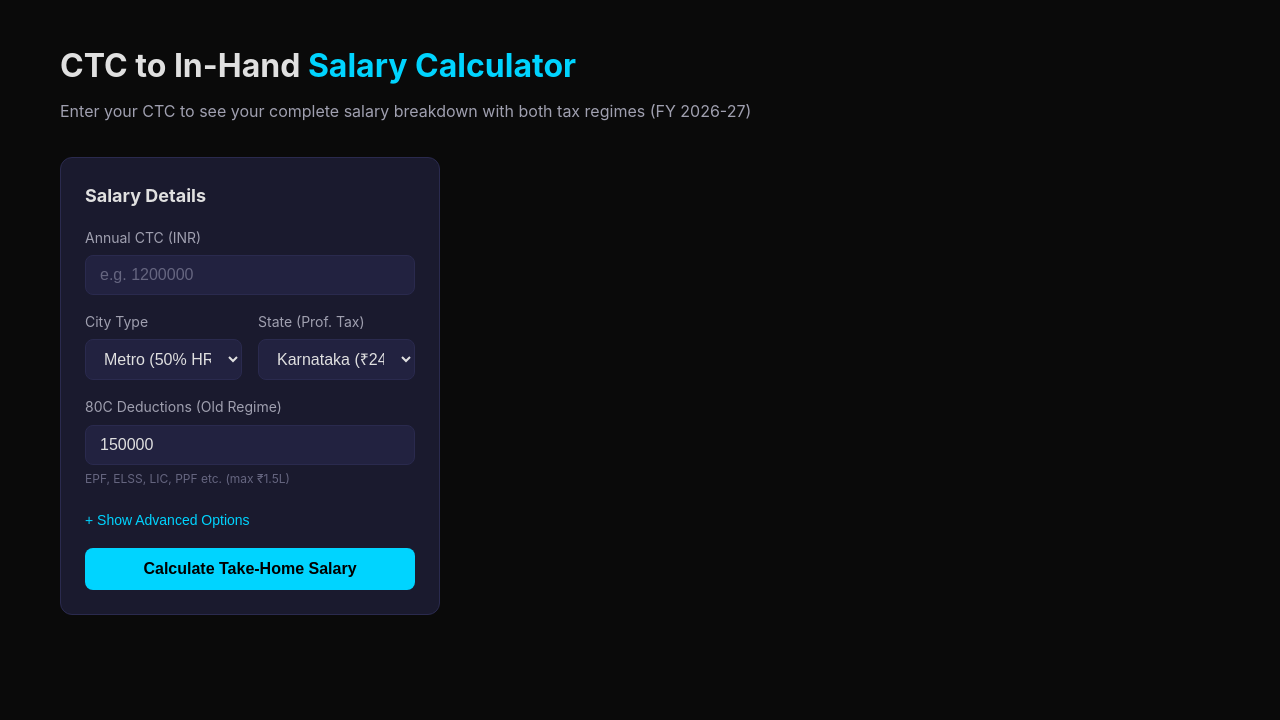
Test: CalculatorPage › shows correct basic salary for 12 LPA
In the number field labelled "Annual CTC (INR)": (250, 275) x1=85 y1=255 x2=415 y2=295, type "1200000"
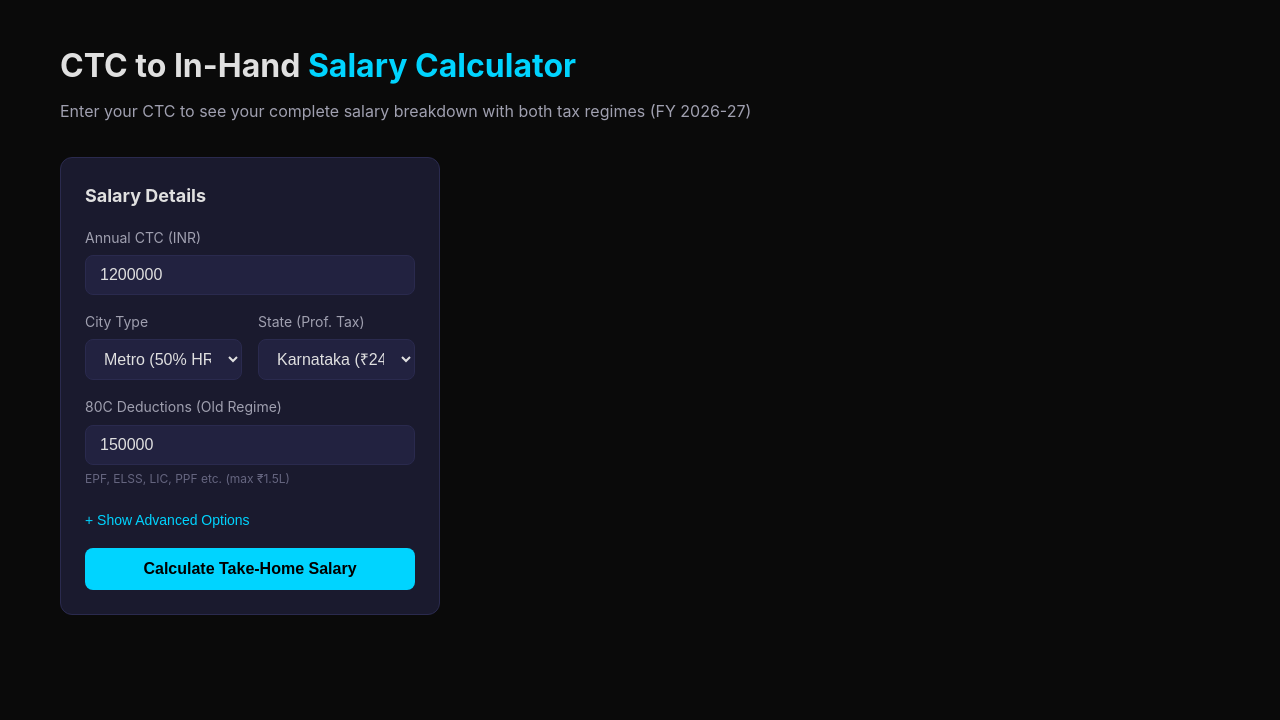
Click the button "Calculate Take-Home Salary": click(250, 569) x1=85 y1=548 x2=415 y2=590
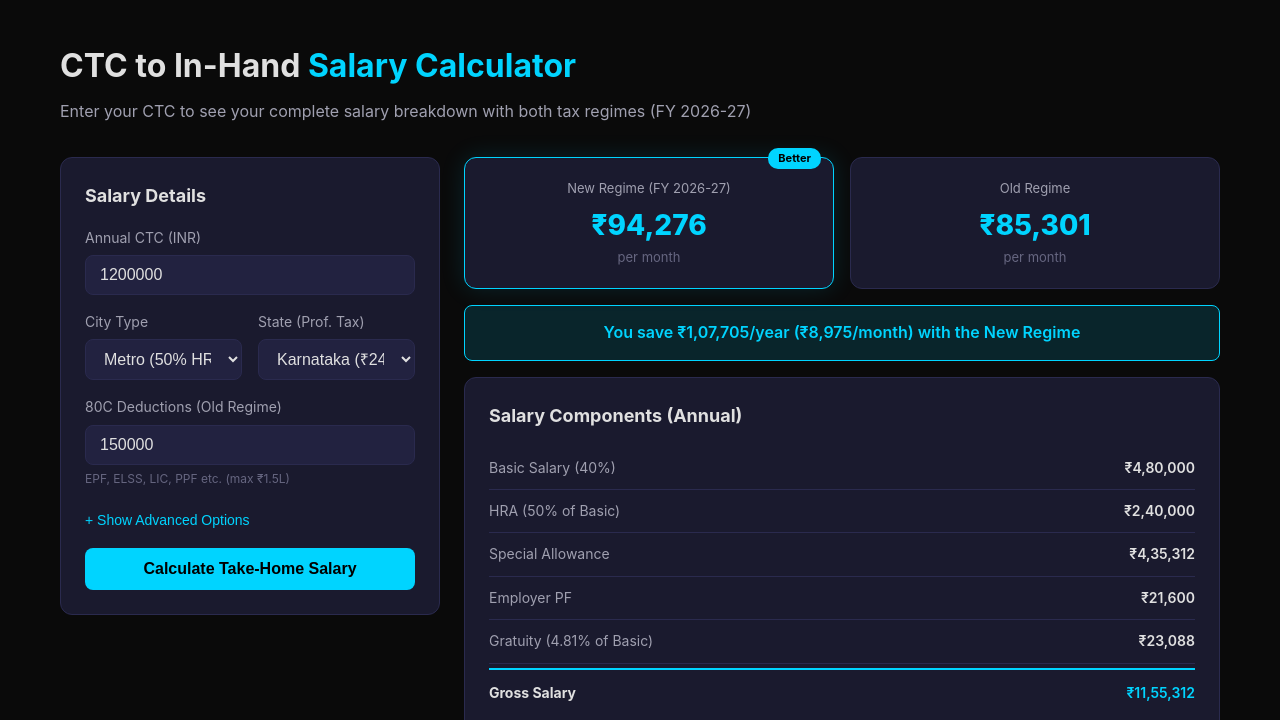
Expected: the text "Basic Salary (40%)" is shown, x1=489 y1=457 x2=616 y2=479
